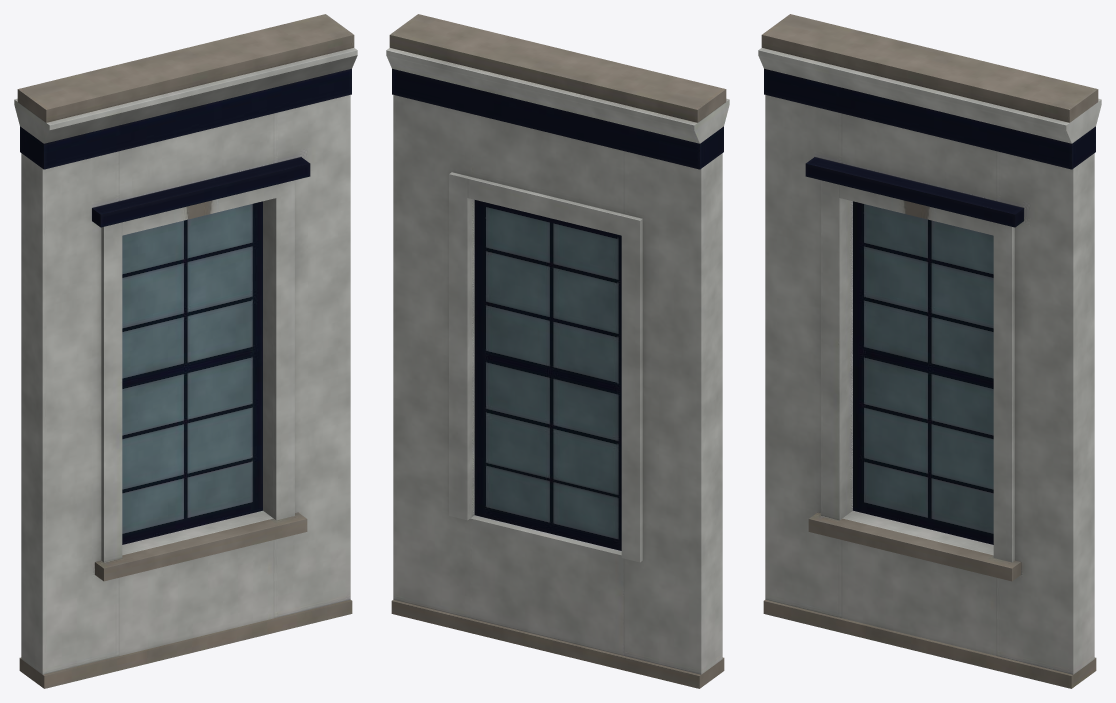
The model's file is charter_window_upper.glb.
The picture shows the model from 3 angles, left to right: view 1: azimuth 30°, elevation 25°; view 2: azimuth 150°, elevation 25°; view 3: azimuth 330°, elevation 25°; orthographic projection.
Parts seen in each view (by area): view 1: charter_window_upper; view 2: charter_window_upper; view 3: charter_window_upper.
Part boxes in pixels (x1,y1,x2,y2): charter_window_upper: (14,14,357,688); charter_window_upper: (386,14,729,688); charter_window_upper: (758,14,1101,688).
Bounding box in the file's own units: 2 × 3.6 × 0.42.
Materials: 1 (1 with a texture image).
